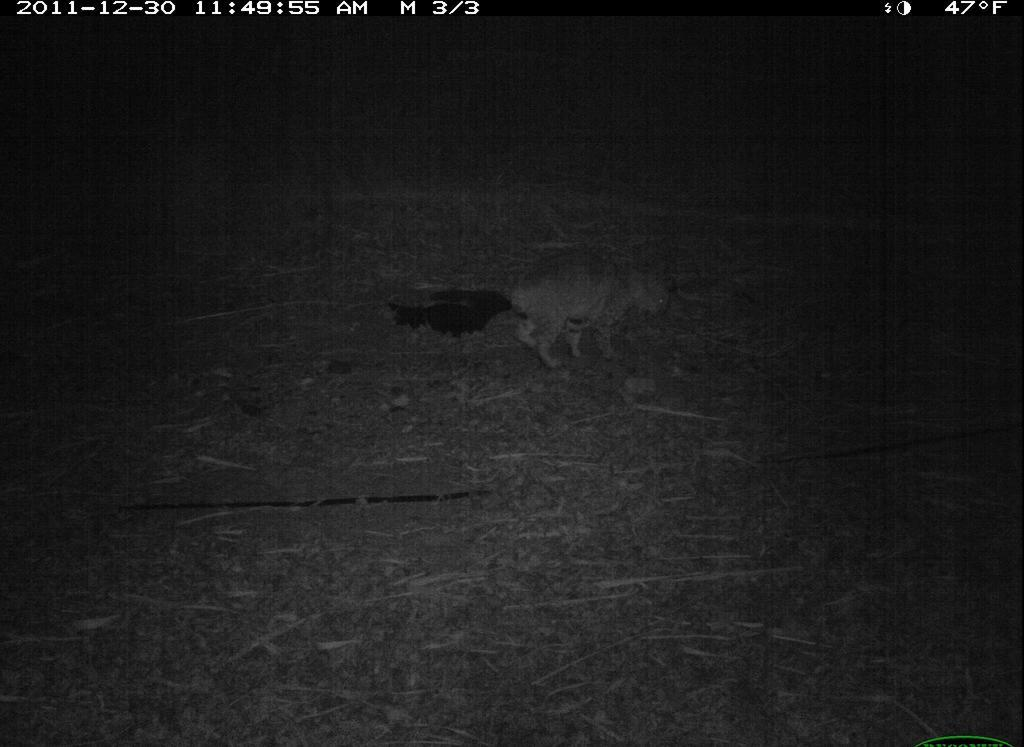bobcat: (500, 244, 674, 385)
